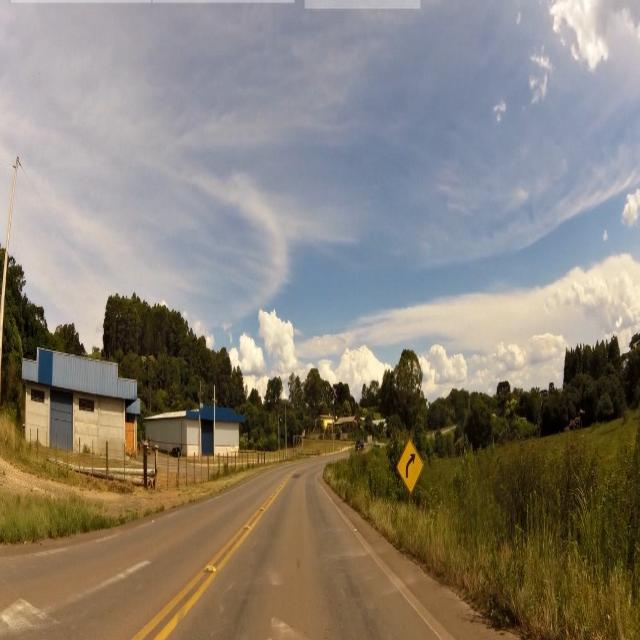A-2b: (397, 442, 423, 492)
